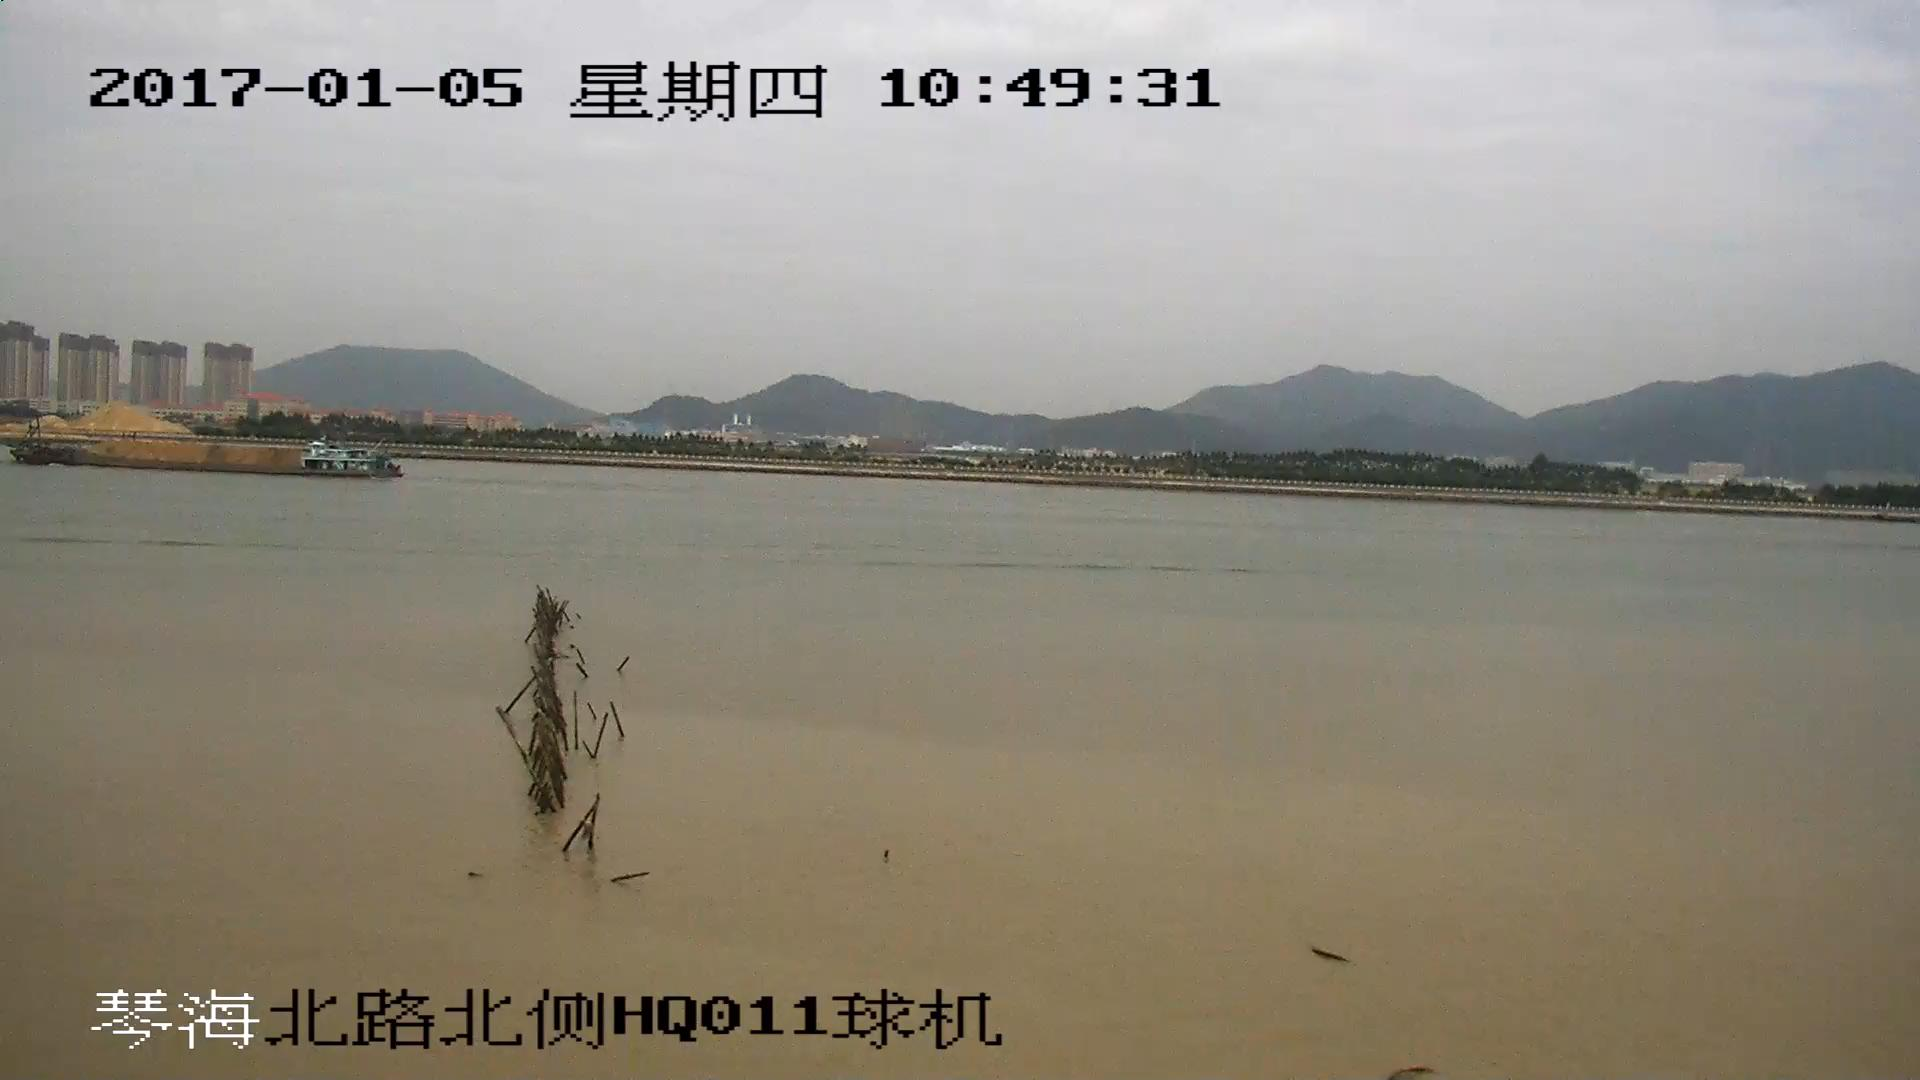ore carrier: (1, 417, 398, 480)
